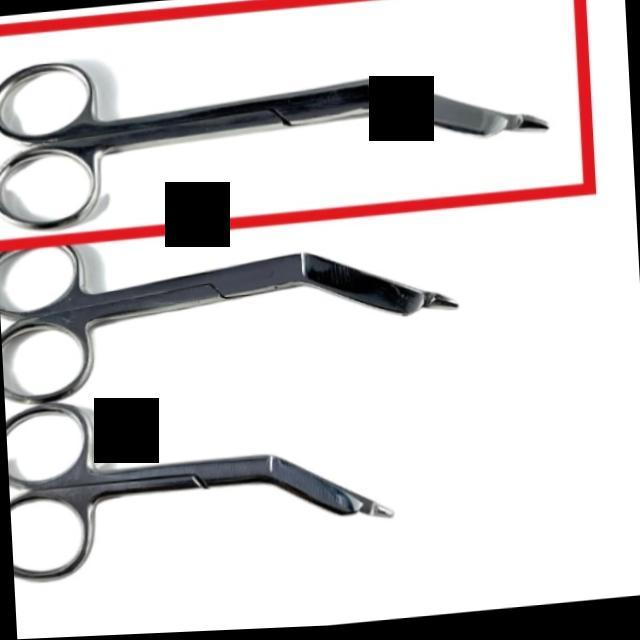Bandage Sciccors: (0, 14, 559, 235), (0, 216, 464, 406), (4, 373, 406, 588)
